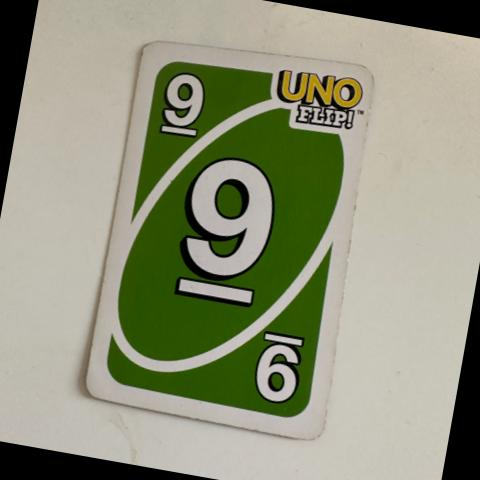lgreen-9: (132, 50, 229, 166)
